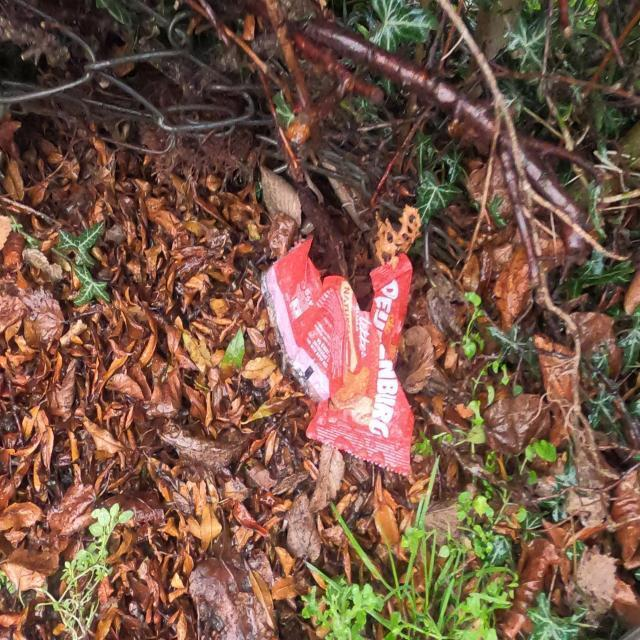Plastic: (266, 232, 414, 475)
